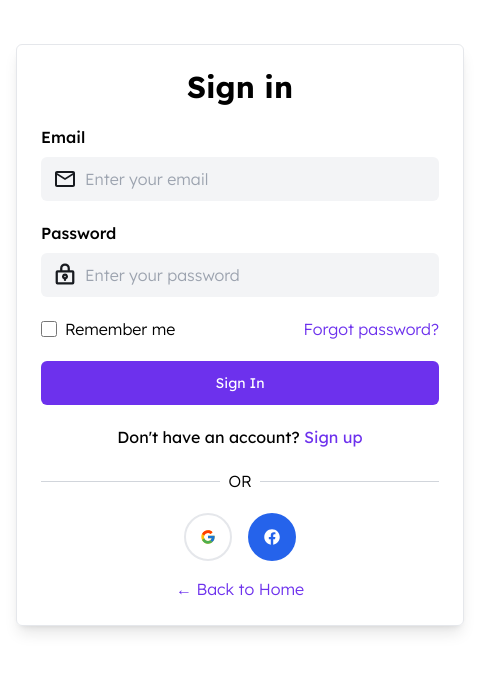
SignIn Component › does not submit the form with incomplete user details
Click the link "Sign In" at point(240, 383), box [41,361,439,405]
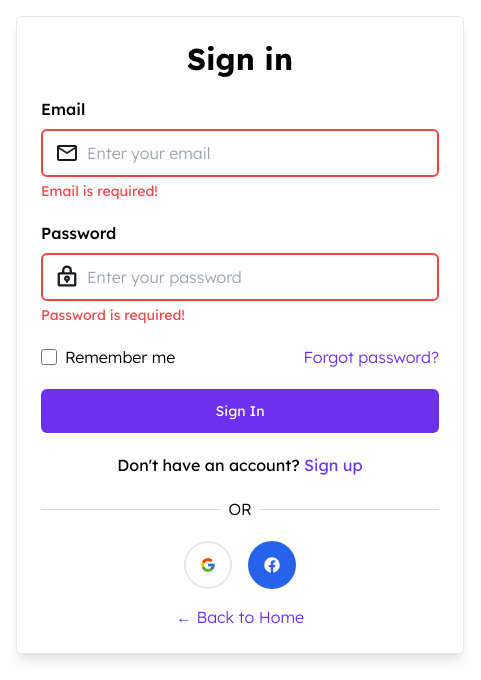
Now the text "Email is required!" is shown, box [41,182,158,200]
Now the text "Password is required!" is shown, box [41,306,185,324]
